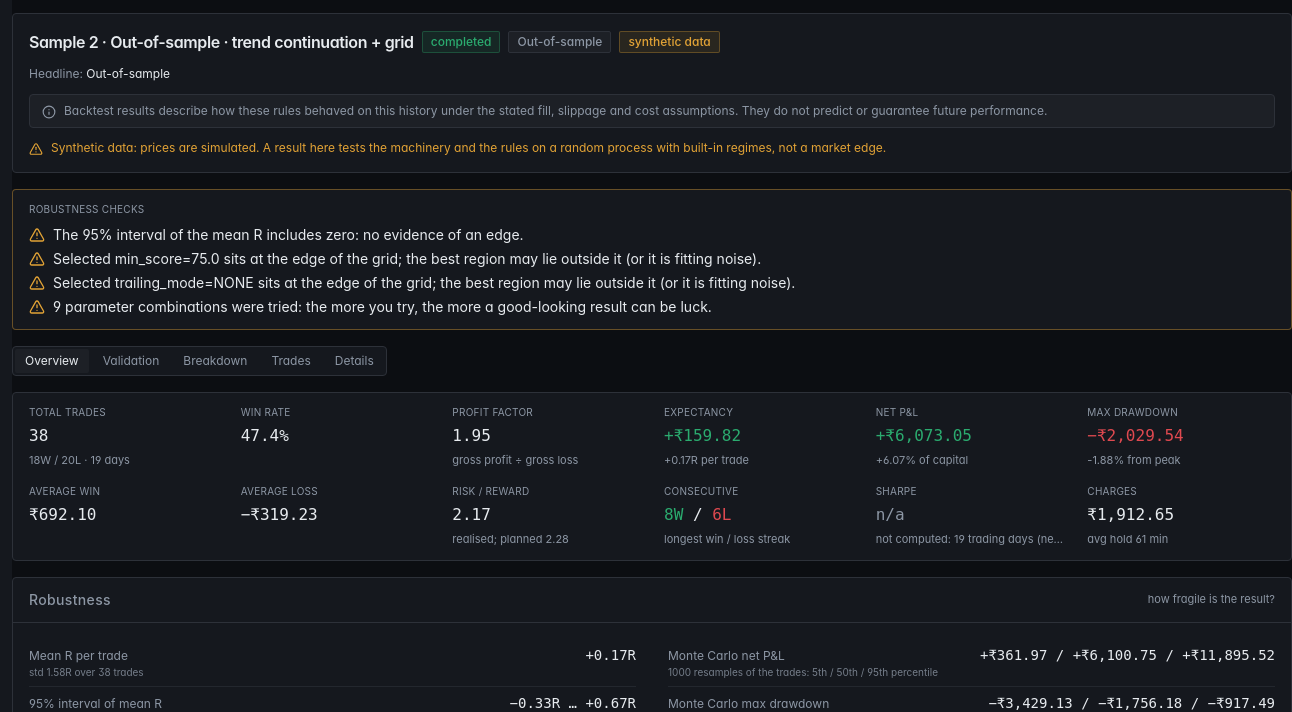
Test: backtesting page (integration) › shows the validation: segments, the selection grid and why a set was chosen
The image size is (1292, 712).
(page scrolled)
expect the element with test id "bt-metrics" is shown: met, box [29,404,1275,548]
Press the mouse on the tab "Validation": (131, 360) [93,348,169,372]
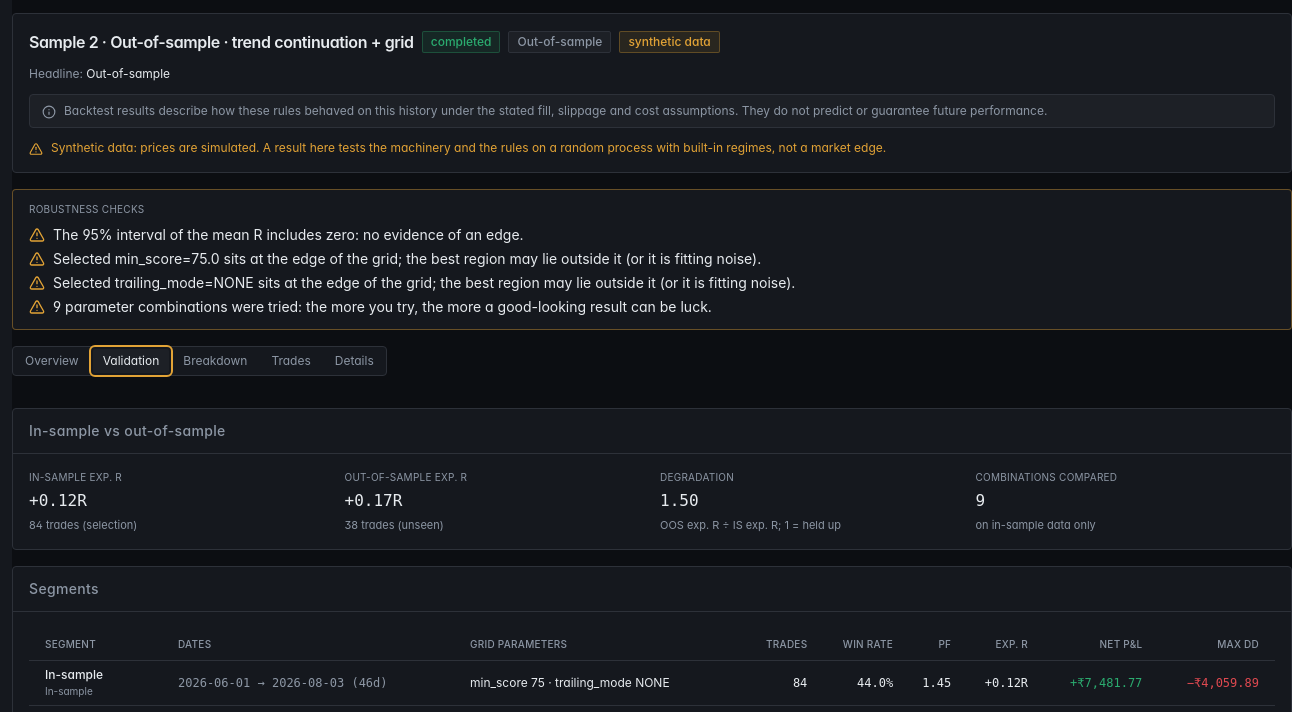
expect the element with test id "bt-degradation" is shown: met, box [660,470,841,532]
